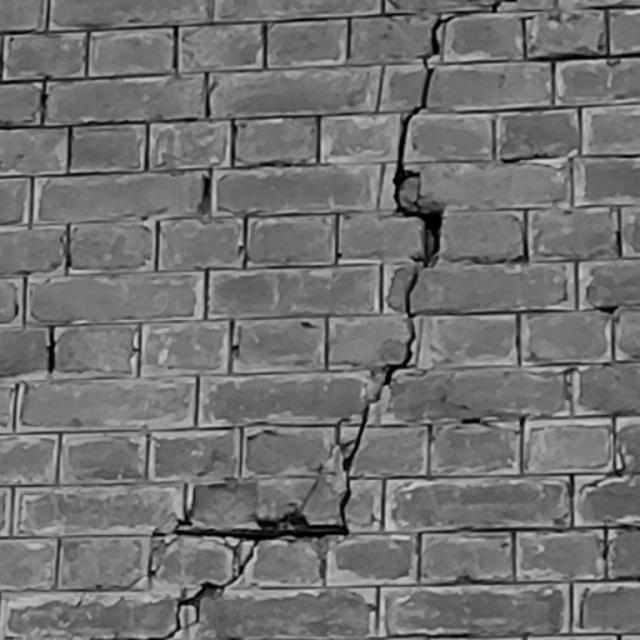crack: (108, 1, 502, 640)
